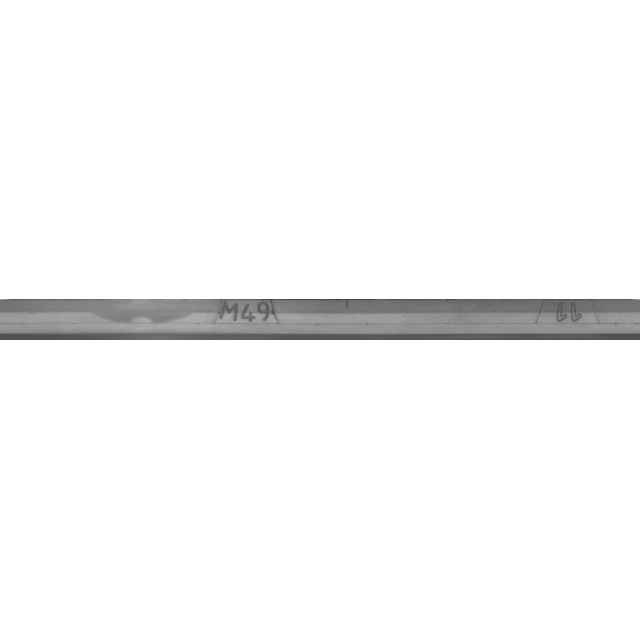mohao: (149, 270, 349, 370)
xuehao: (469, 270, 640, 370)
